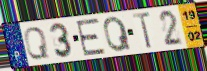2: (158, 9, 184, 47)
3: (48, 21, 74, 60)
E: (74, 17, 107, 57)
Q: (102, 15, 133, 53), (22, 25, 51, 61)
T: (132, 11, 154, 51)
